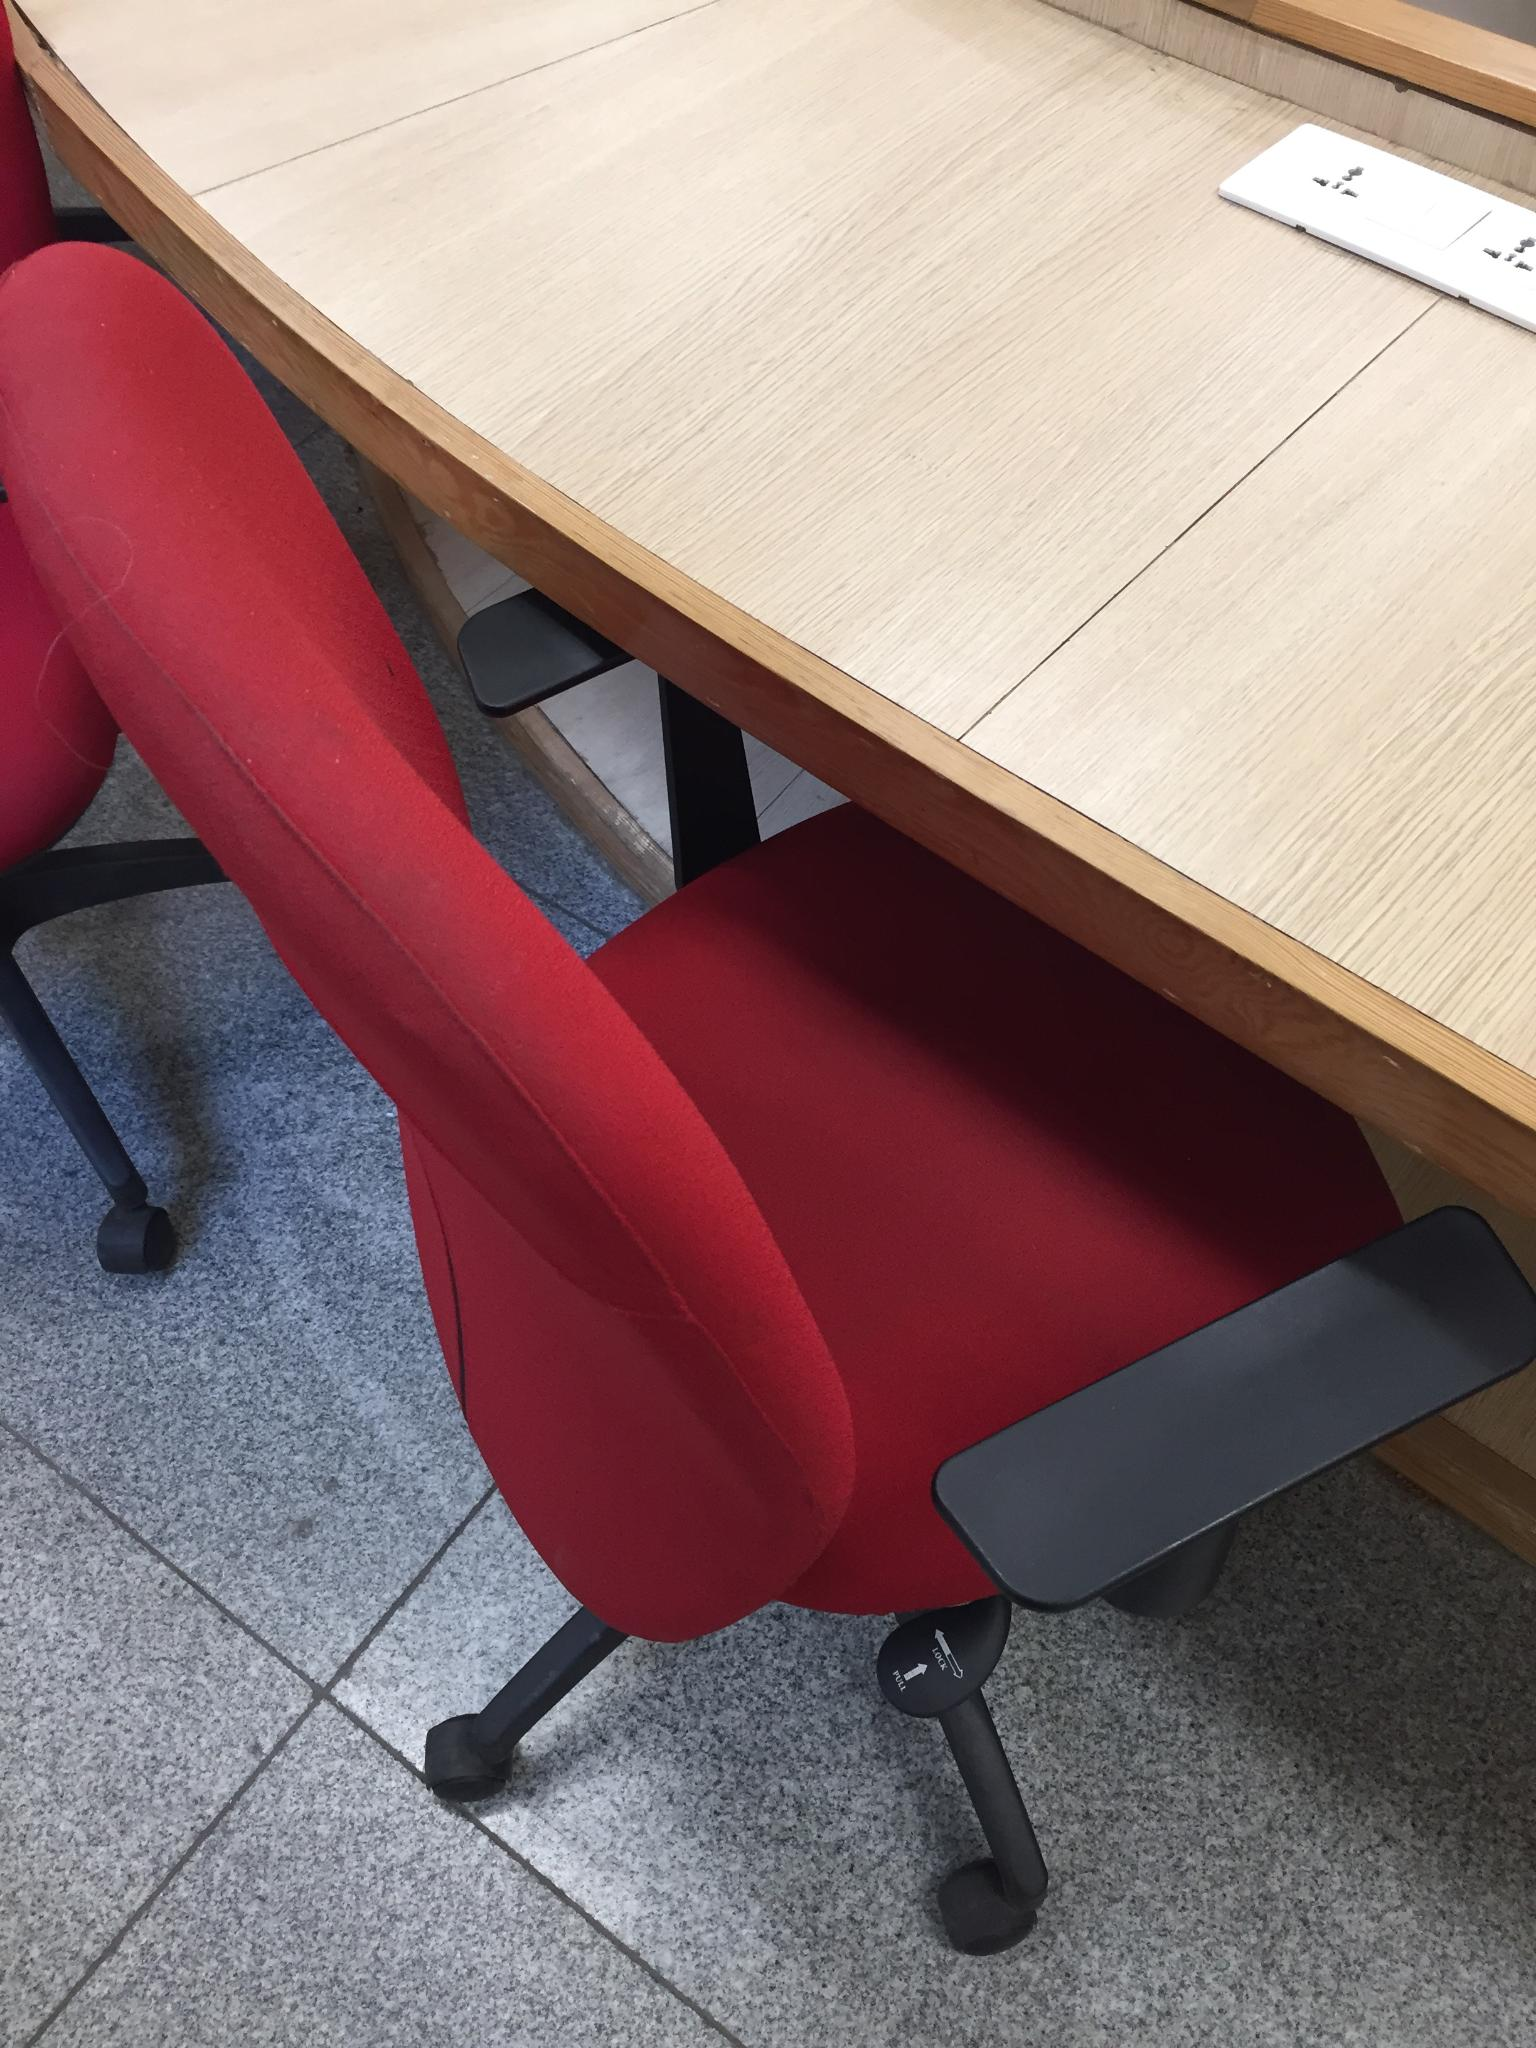chair: (8, 247, 1488, 2048), (0, 8, 278, 1258)
